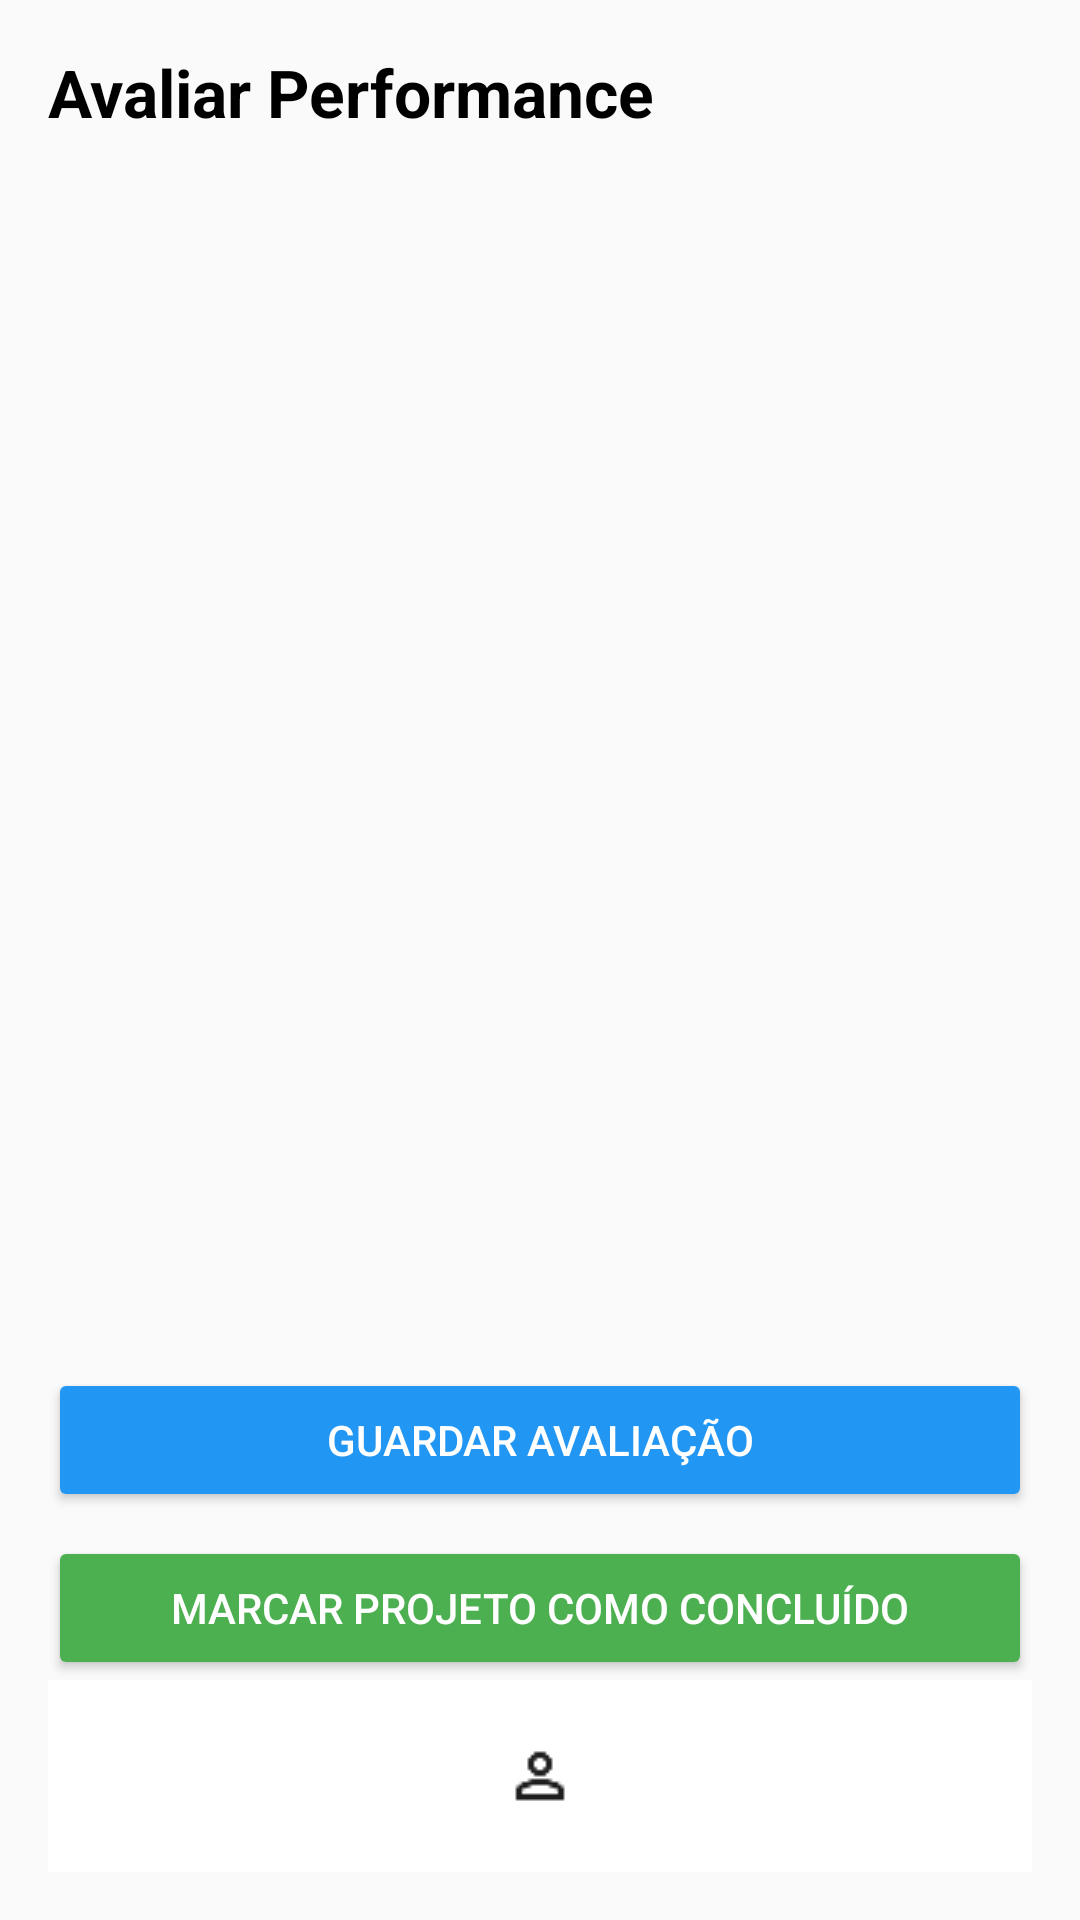

Screen size 1080 x 1920. Icon name, then its center in pixels as point (x, y):
Perfil: point (540, 1776)
